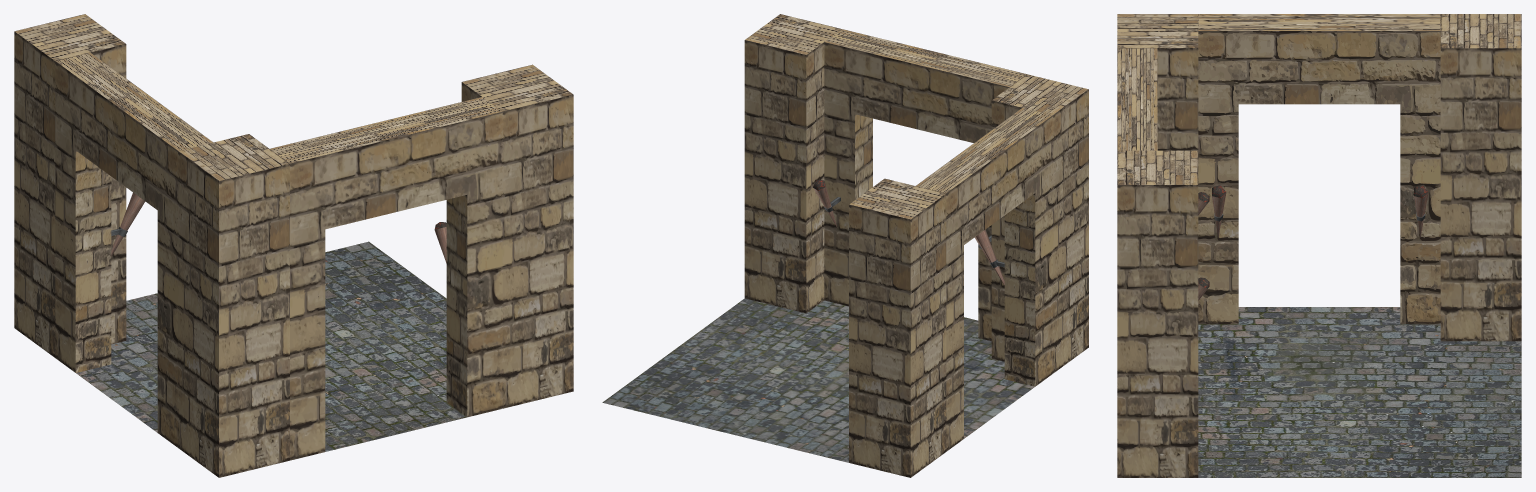
Rendered from 1-NESW-southWestDoors.fbx.
The picture shows the model from 3 angles, left to right: view 1: azimuth 30°, elevation 25°; view 2: azimuth 150°, elevation 25°; view 3: azimuth 270°, elevation 25°; orthographic projection. The views are drawn at different scales.
Visible parts, largest first — view 1: Cube_1_5, Plane; view 2: Cube_1_5, Plane; view 3: Cube_1_5, Plane.
Boxes of the visible parts, x1,y1,x2,y2 form: Cube_1_5: [14, 14, 573, 477]; Plane: [76, 241, 466, 451]; Cube_1_5: [744, 14, 1088, 477]; Plane: [602, 298, 1034, 462]; Cube_1_5: [1117, 14, 1521, 477]; Plane: [1198, 307, 1521, 477].
Size of the model in its own units: 10 by 8 by 10.
6 materials, 6 textured.
